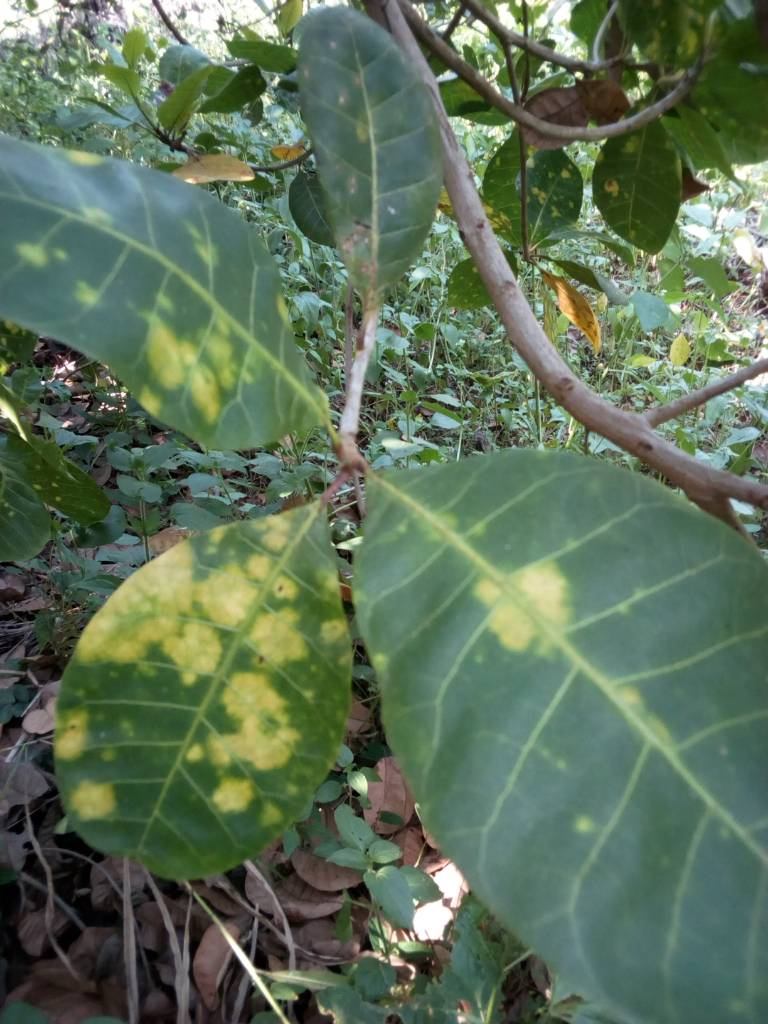Carence minérale: (372, 440, 768, 1024), (36, 494, 405, 889), (5, 128, 340, 467), (271, 11, 485, 307)
